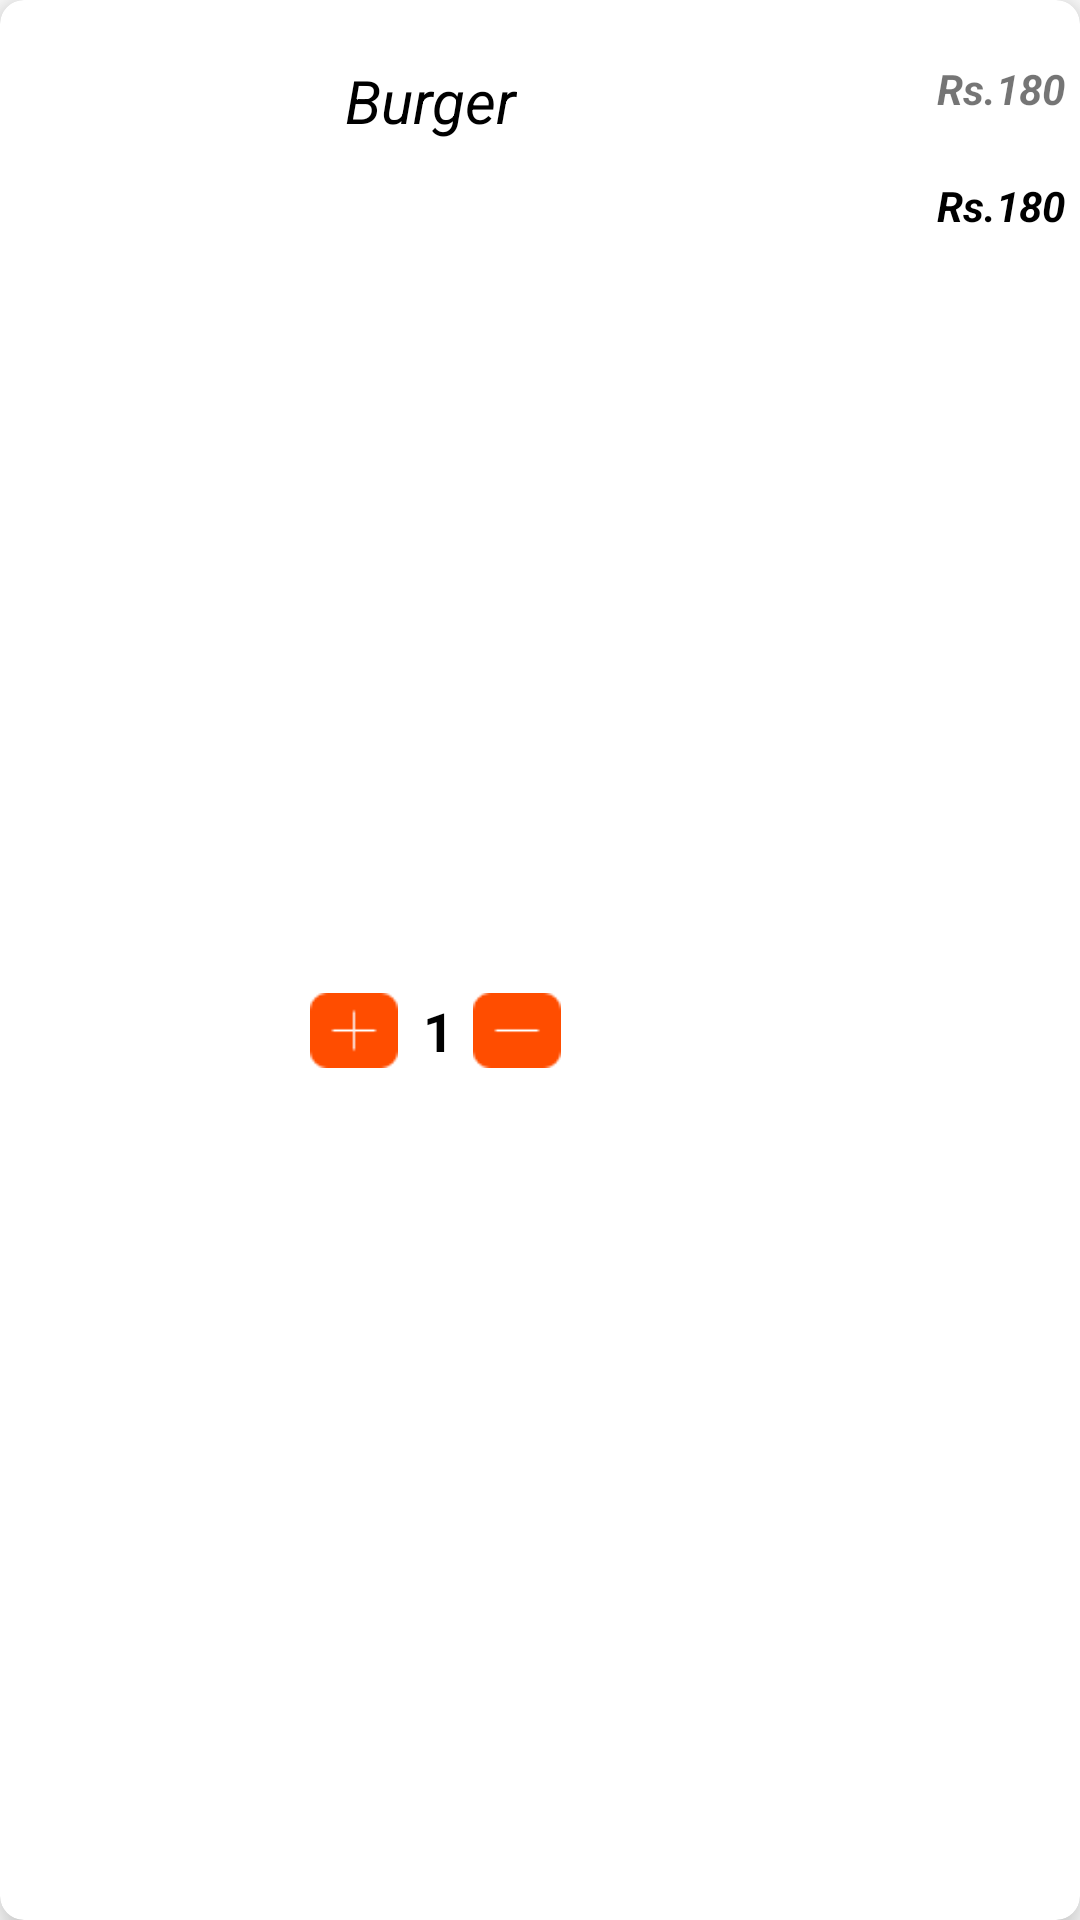

Screen size 1080 x 1920. Icon name, then its center in pixels as (x=x, y=y):
add: (x=354, y=1030)
sub: (x=517, y=1030)
